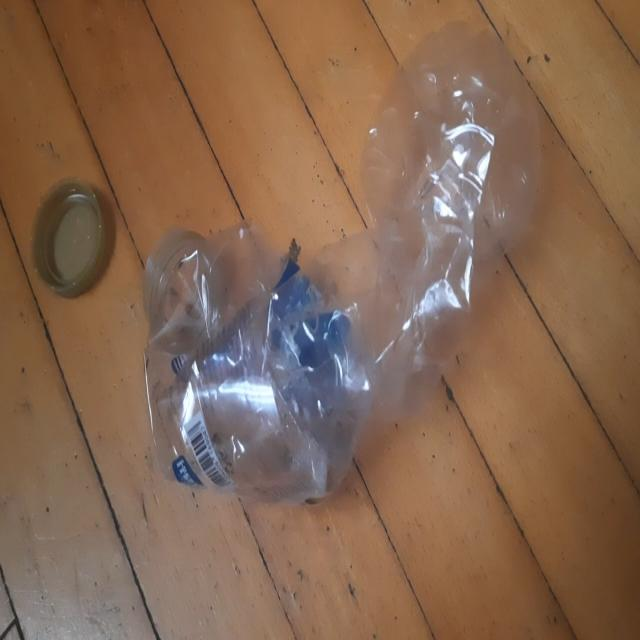Plastic: (143, 18, 541, 504)
